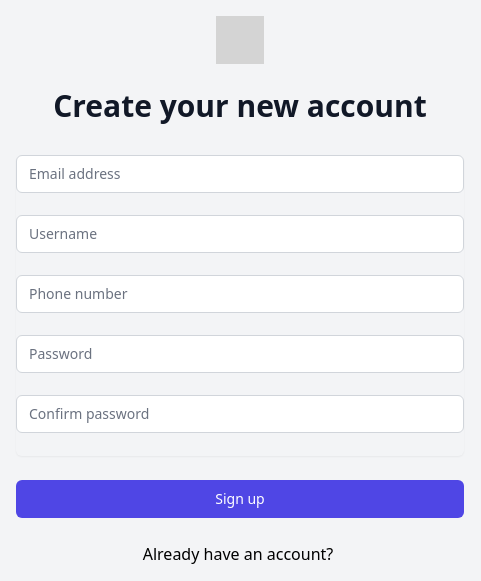
Scenario: Sign up functionality › Invalid fields › Render invalid email error message
Type "toryemail" into the field labelled "Email" at (240, 174), box left=16, top=155, right=464, bottom=193
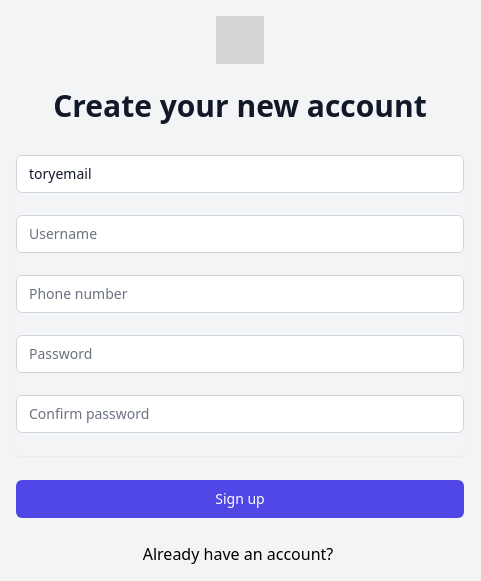
Click the button "Sign up" at (240, 499), box left=16, top=480, right=464, bottom=518
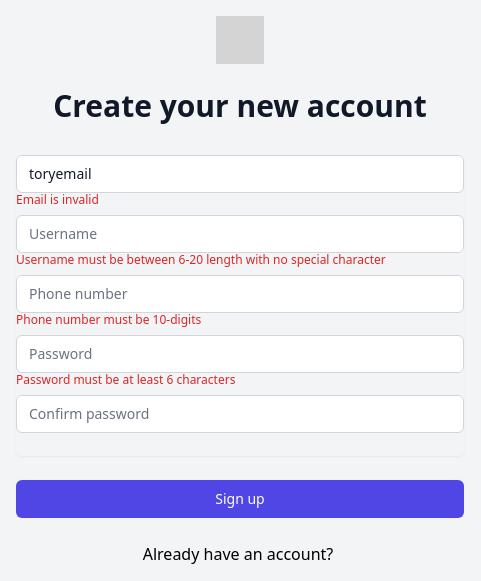
Check: the text "Email is invalid" is shown, box left=16, top=191, right=99, bottom=208
